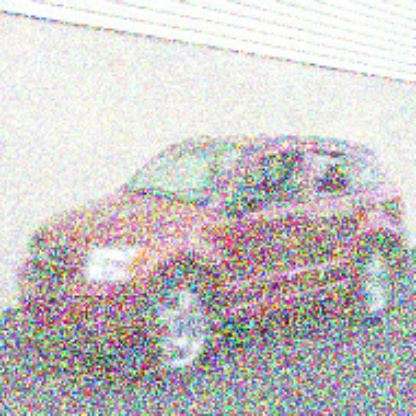Vehicle: (17, 132, 407, 380)
